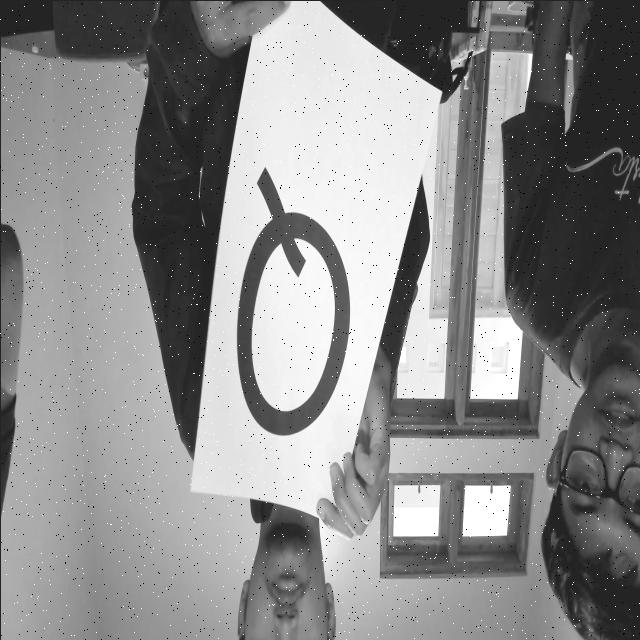q: (222, 142, 354, 446)
